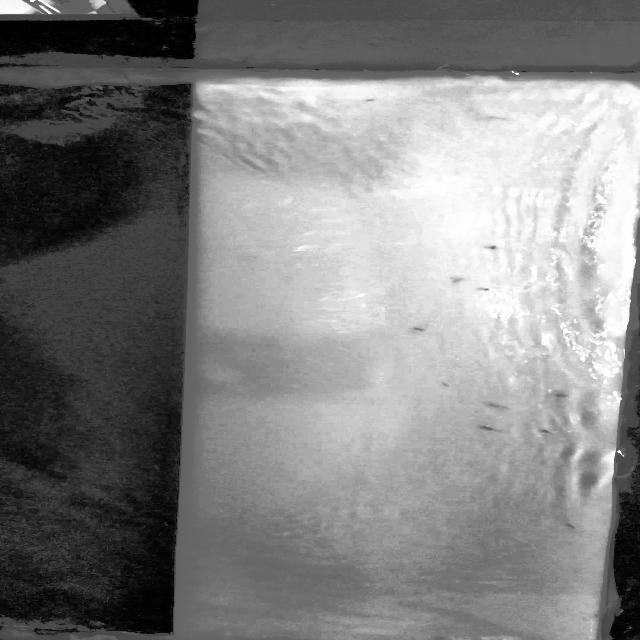shrimp: (473, 108, 520, 126), (477, 399, 523, 416), (433, 373, 459, 392), (470, 284, 503, 298), (358, 92, 394, 104), (442, 274, 474, 287), (409, 324, 445, 334), (476, 242, 508, 253), (561, 516, 583, 532), (531, 424, 558, 436), (544, 392, 577, 401), (475, 424, 497, 433)
